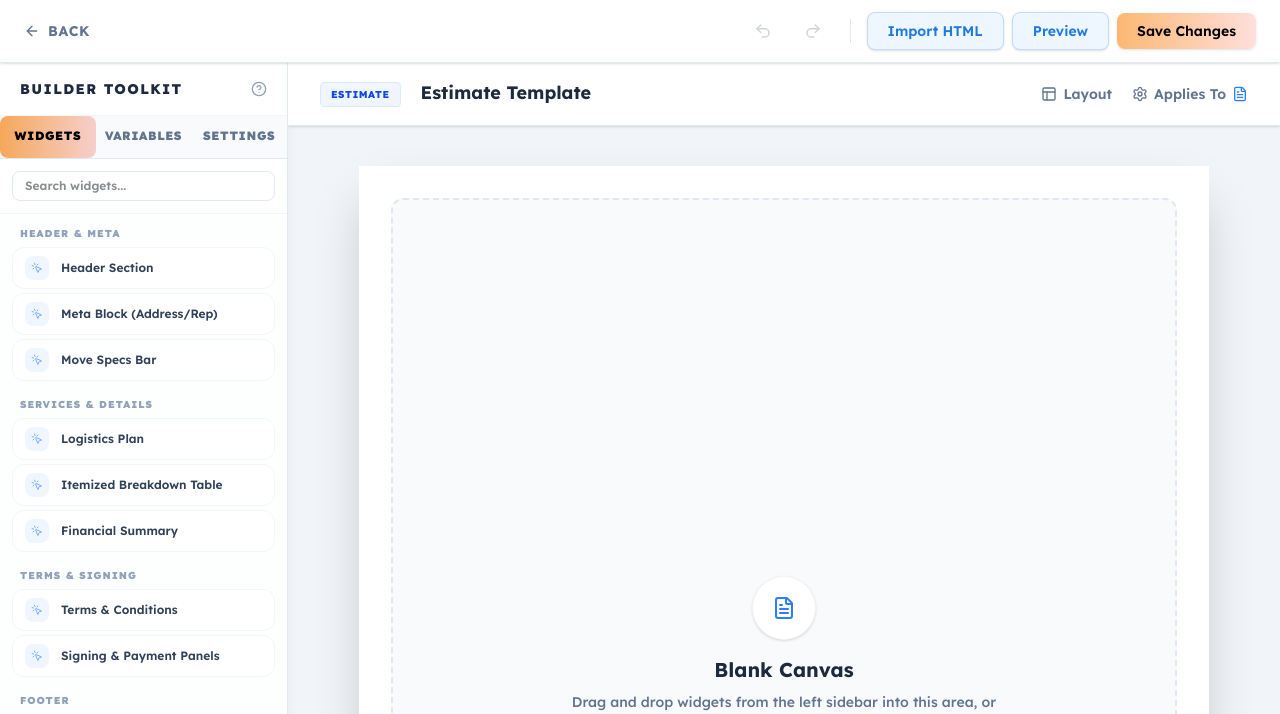
Test: EstimateBuilderFullPage preview › keeps estimate portal variables available when an external registry is loaded
Click the button "Variables". click: (144, 137)
box: left=96, top=116, right=191, bottom=158
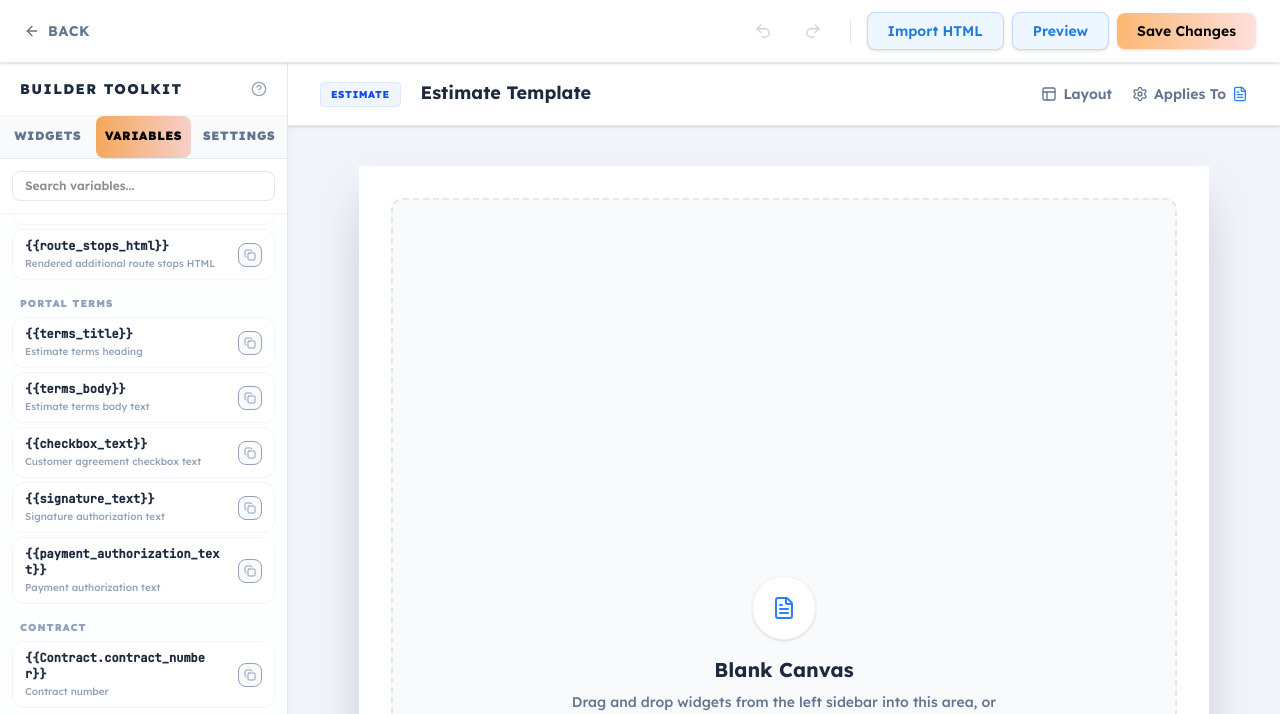
Expected: the text "{{terms_title}}" is shown, left=25, top=326, right=133, bottom=342
Expected: the text "{{route_stops_html}}" is shown, left=25, top=238, right=169, bottom=254
Expected: the text "{{Contract.contract_number}}" is shown, left=25, top=650, right=226, bottom=682
